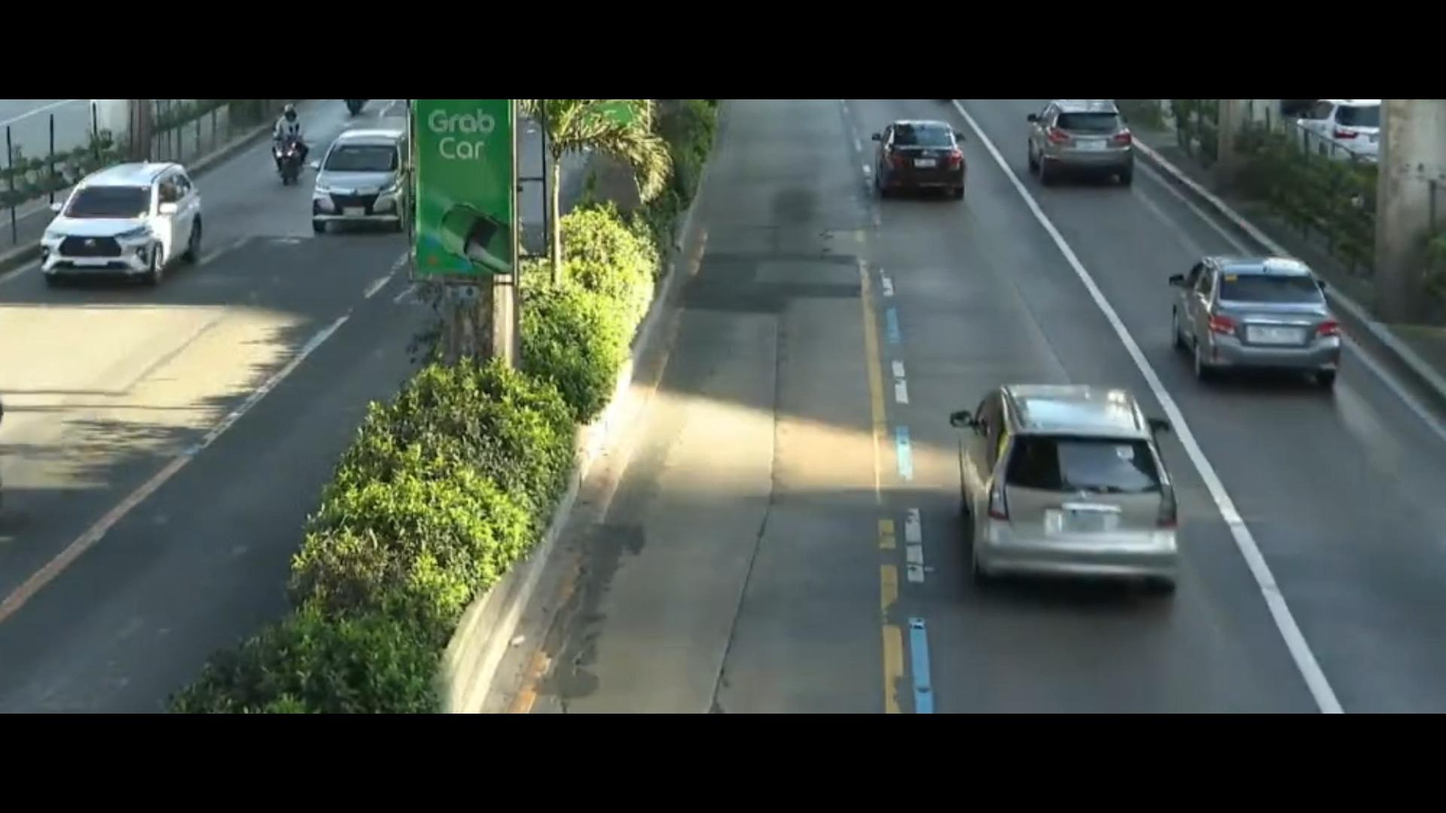Motorcycle: (262, 96, 313, 187)
SUV: (936, 360, 1210, 615), (30, 147, 221, 297), (302, 113, 414, 246), (1021, 106, 1153, 188)
Sedan: (1143, 239, 1387, 408), (862, 111, 985, 203)
